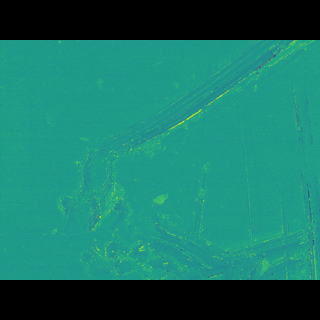Loch: (45, 70, 319, 217), (57, 194, 320, 251), (285, 101, 319, 249)
